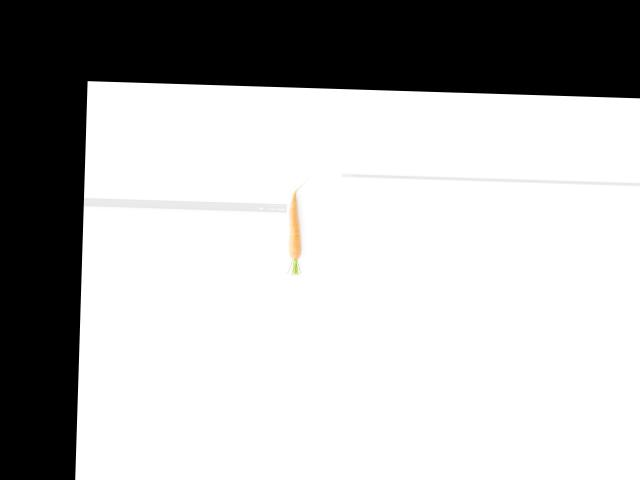carrot: (284, 203, 305, 264)
